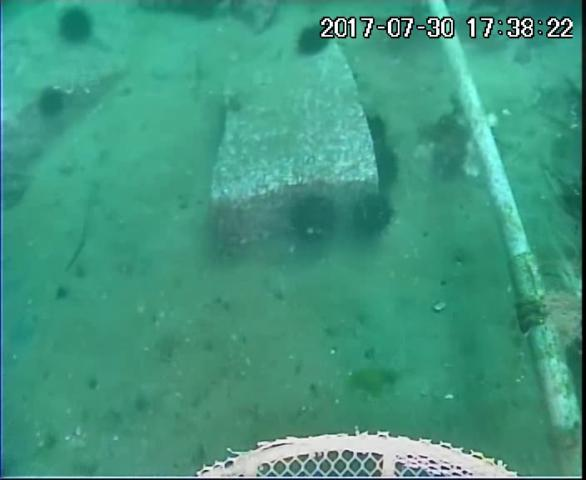echinus: (287, 194, 342, 246), (351, 191, 398, 245), (371, 144, 405, 192), (57, 8, 97, 46), (36, 87, 70, 123), (299, 24, 334, 58), (370, 113, 390, 151)
